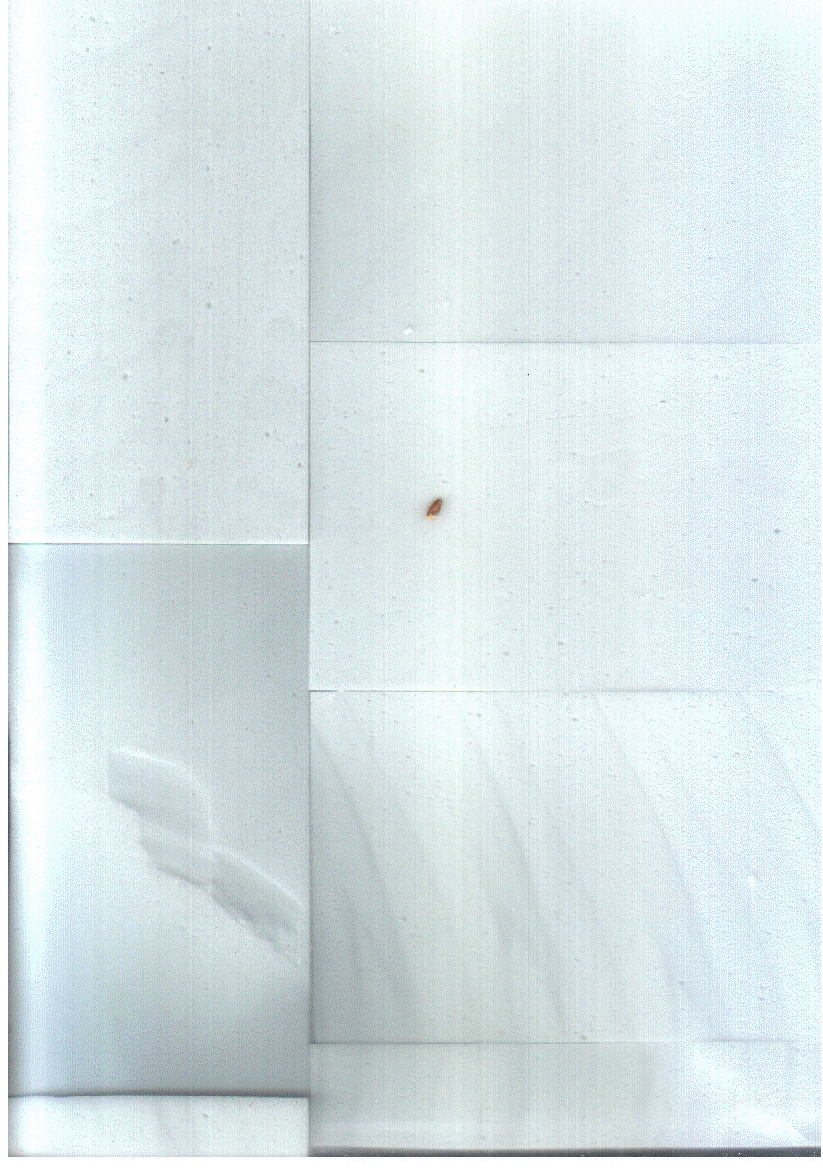grains: (413, 483, 455, 530)
